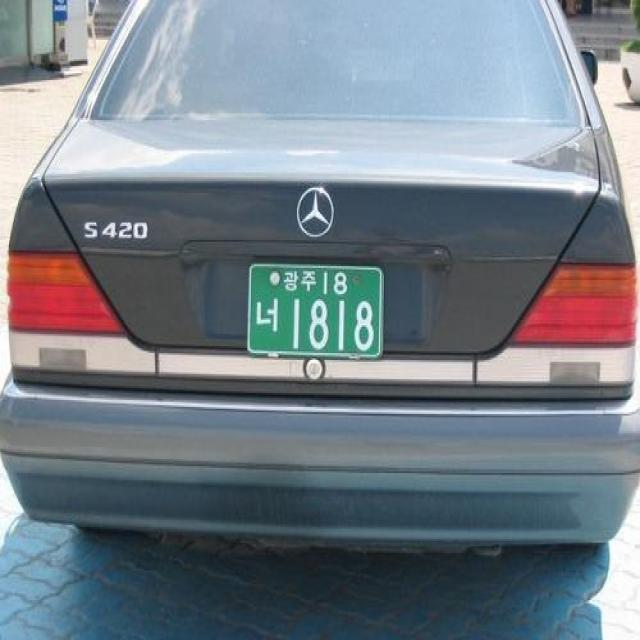car: (0, 0, 640, 573)
illegal_plate: (245, 252, 389, 374)
